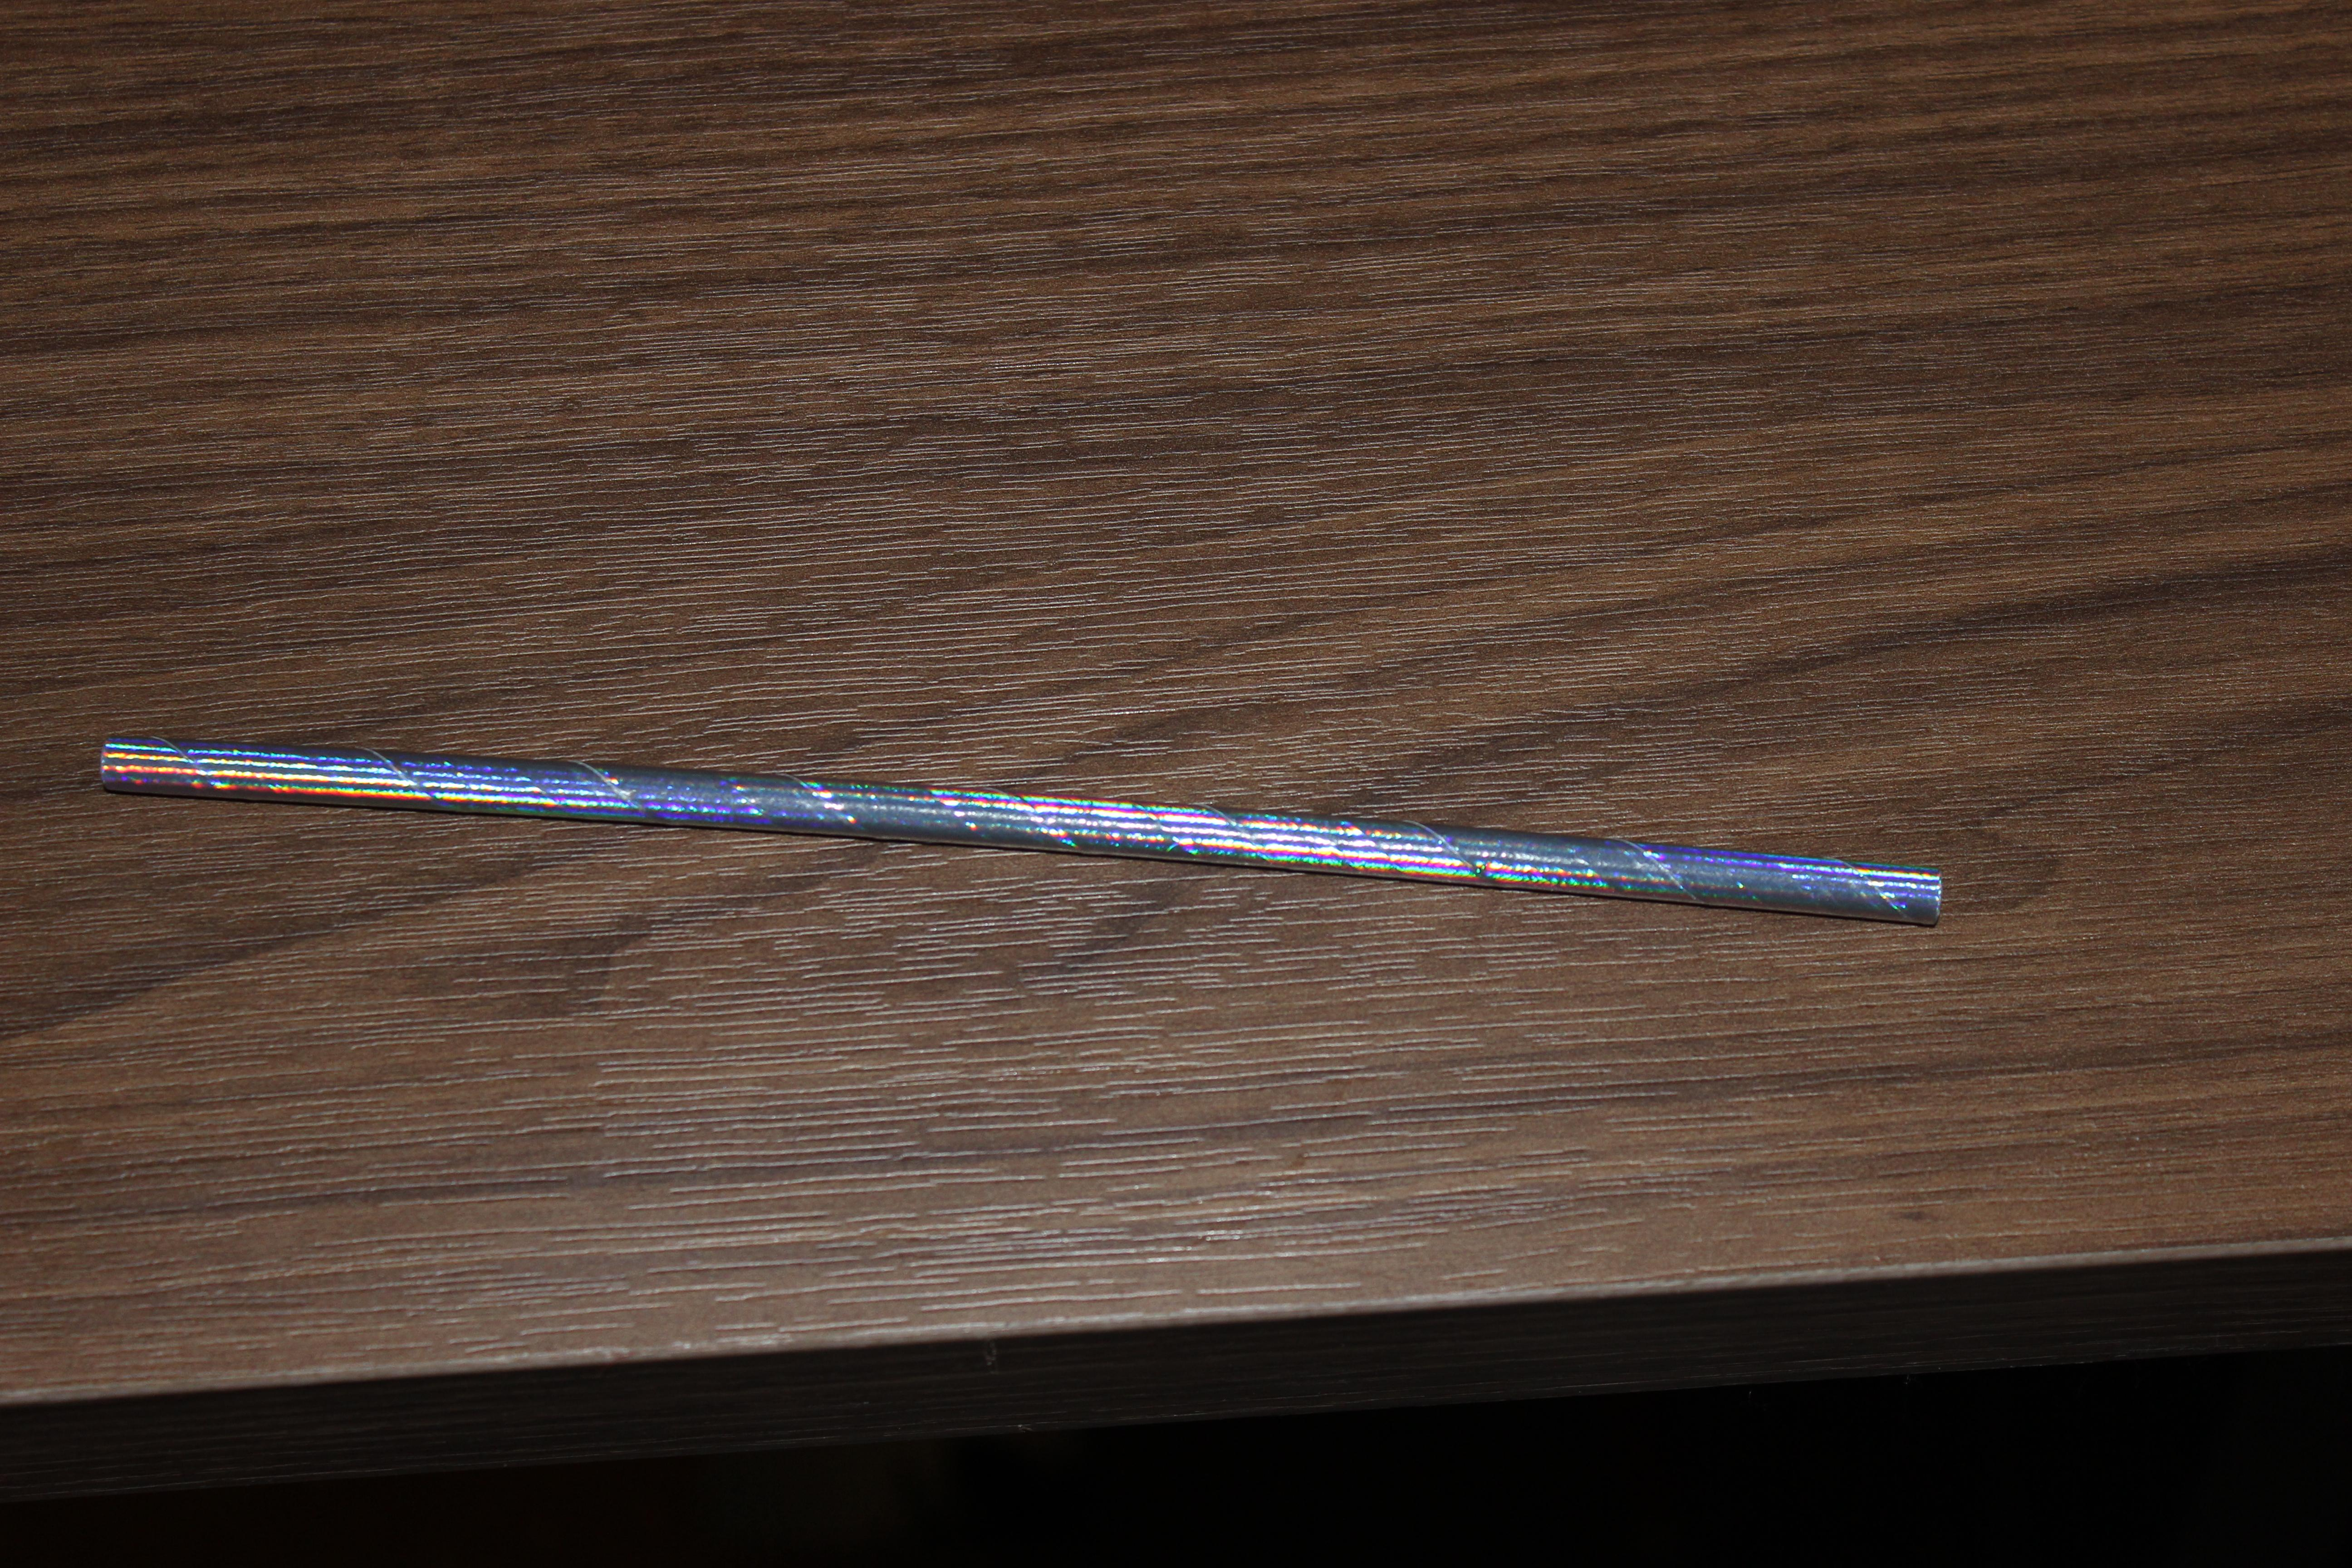silverStraw: (56, 698, 1993, 961)
